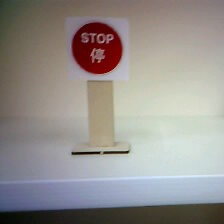stop: (64, 17, 130, 81)
